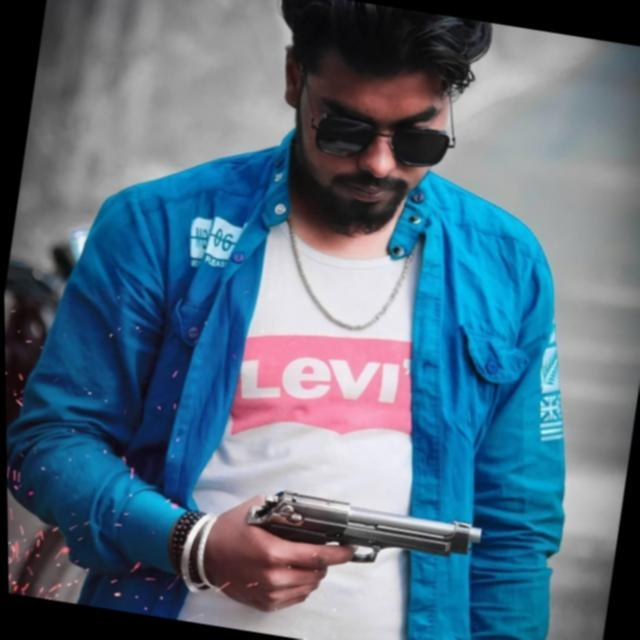weapon: (220, 476, 496, 640)
